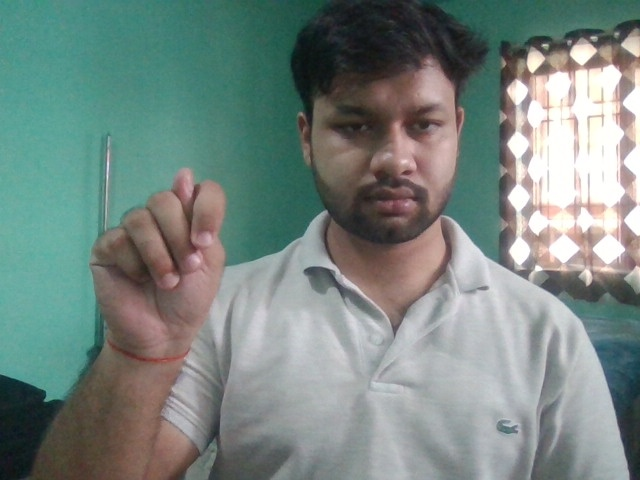Bathroom: (88, 165, 226, 343)
